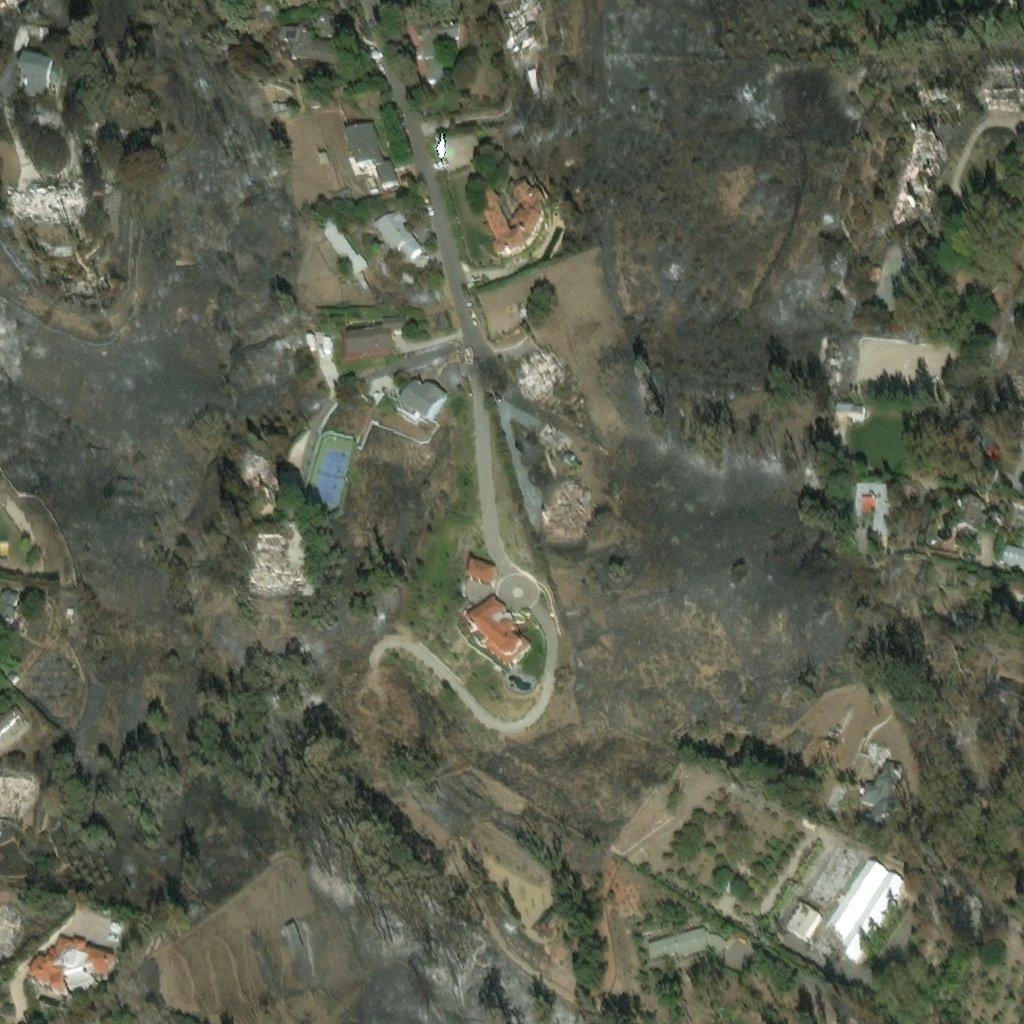0 no-damage: (27, 938, 121, 1002), (481, 180, 549, 254), (468, 597, 533, 670), (12, 33, 75, 97), (345, 123, 399, 188), (341, 312, 408, 364), (375, 205, 424, 260), (424, 10, 459, 81), (394, 383, 447, 428), (852, 477, 893, 535), (647, 929, 726, 958), (954, 502, 1006, 536), (12, 19, 54, 47), (0, 588, 21, 639), (468, 563, 498, 587), (831, 399, 862, 417), (1005, 386, 1023, 413), (308, 332, 330, 354), (1004, 544, 1023, 568), (952, 615, 978, 632), (987, 444, 1000, 457), (0, 0, 16, 10), (7, 672, 20, 684), (317, 154, 329, 166), (274, 107, 288, 117), (140, 135, 153, 145), (66, 611, 76, 621)
1 minor-damage: (861, 761, 903, 833)
2 major-damage: (779, 845, 910, 968)
3 destroyed: (886, 123, 943, 218), (4, 175, 83, 229), (541, 481, 593, 537), (496, 0, 541, 57), (249, 541, 294, 595), (520, 348, 561, 393), (237, 452, 280, 494), (0, 774, 36, 823), (0, 904, 25, 962), (819, 339, 838, 380), (538, 420, 564, 447), (984, 89, 1017, 107), (865, 742, 887, 762), (528, 70, 541, 100)
